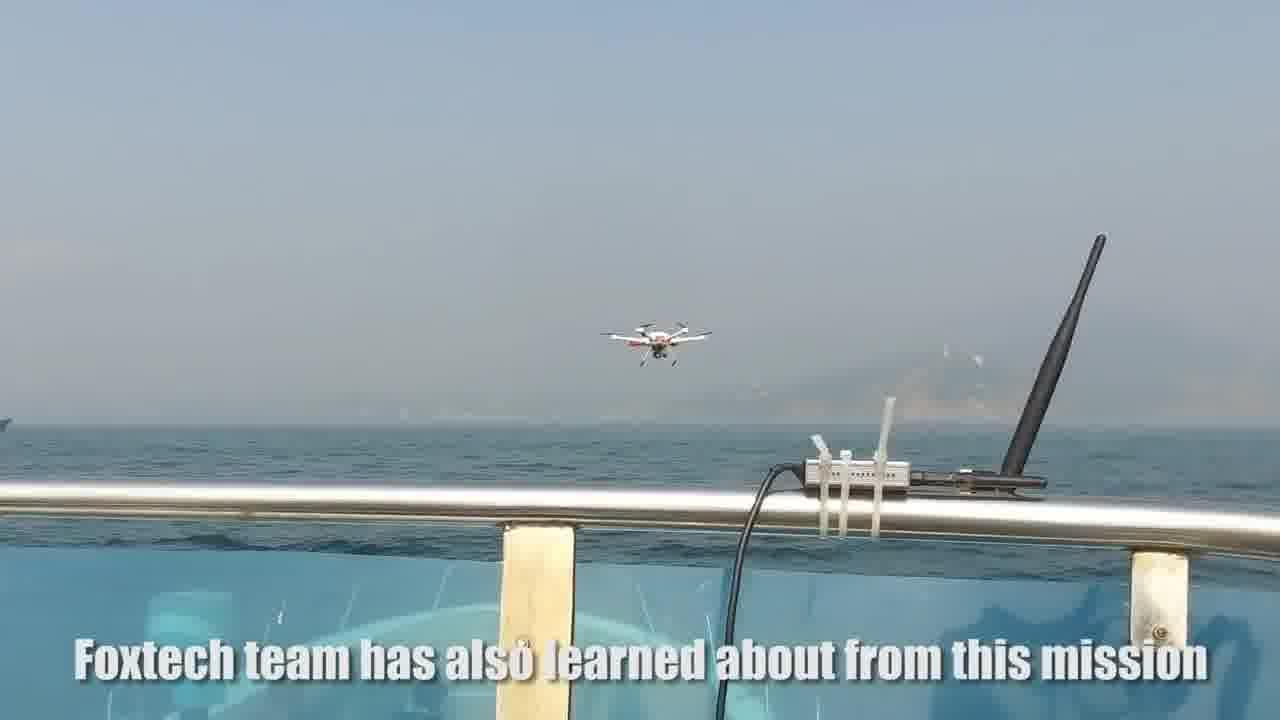drone: (601, 317, 712, 369)
